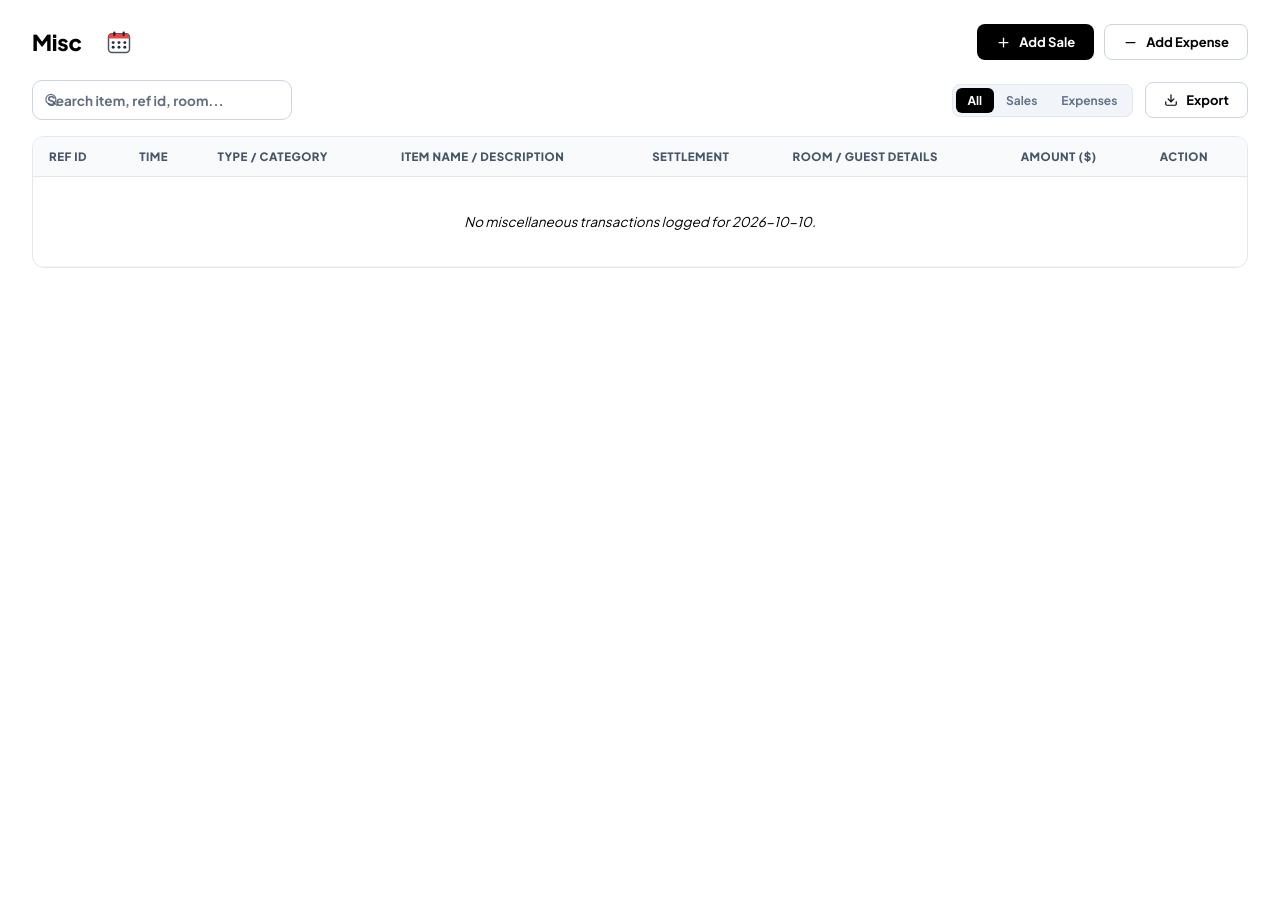
Misc Operations Test Suite › 2. Adds a new Misc Daily Sale using configured sequence ID (MSC-1001)
The image size is (1280, 900).
// Click Add Sale
Click the button "Add Sale" at (1036, 42), box [977,24,1094,60]
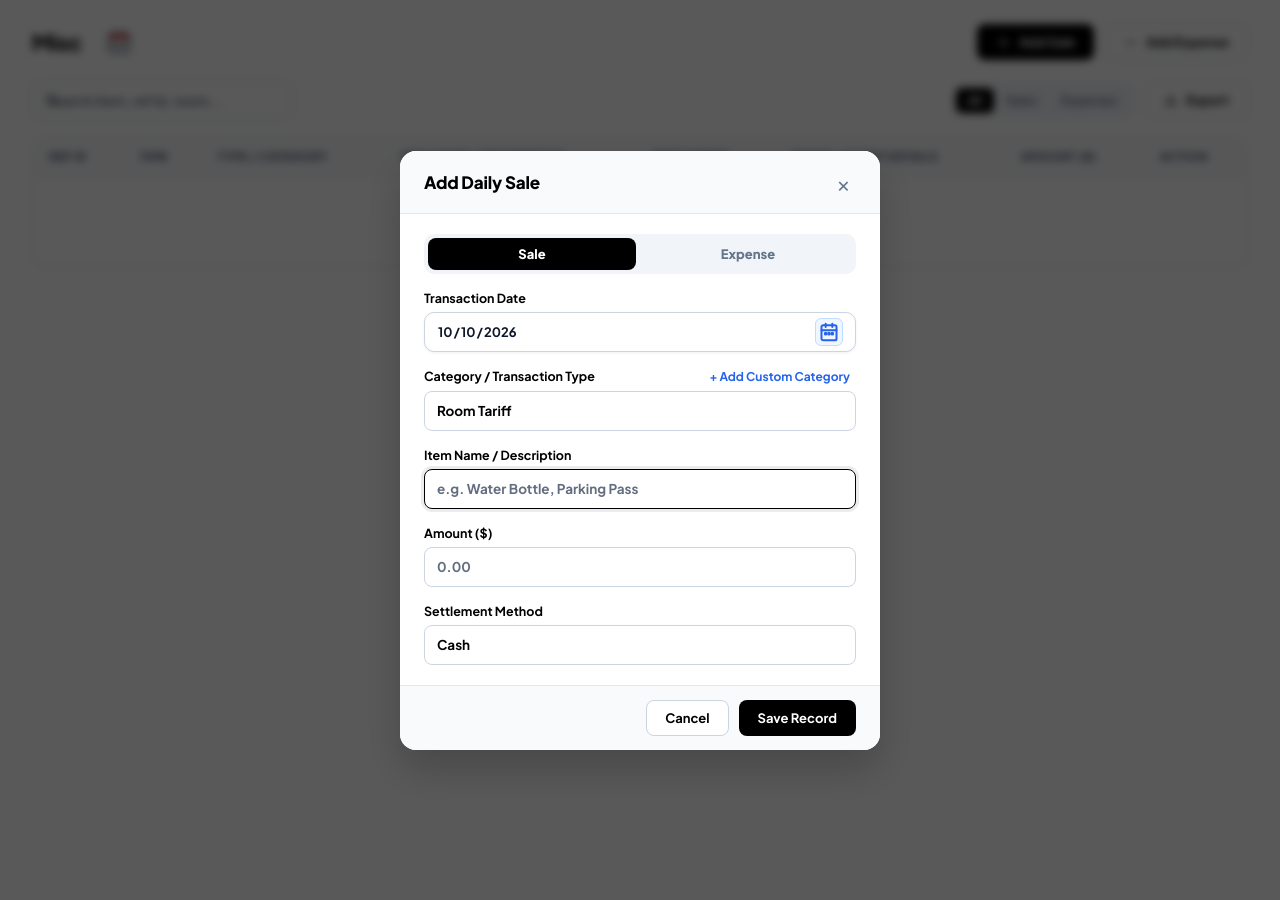
// Item Name
Type "Express Parking Pass" into the field with placeholder "e.g. Water Bottle, Parking Pass" at (640, 488), box [424,468,856,508]
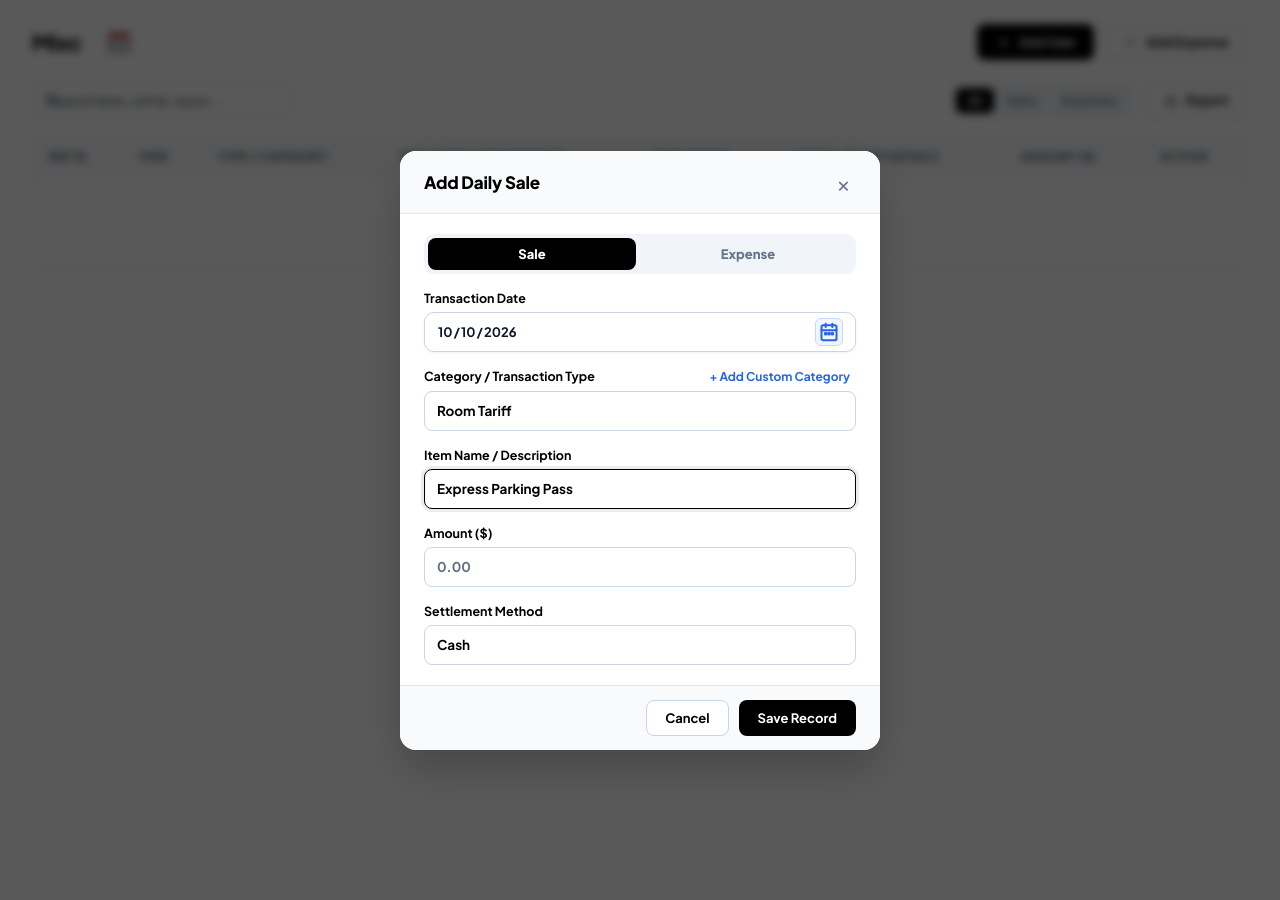
Type "20.00" into the number field with placeholder "0.00" at (640, 566), box [424,546,856,586]
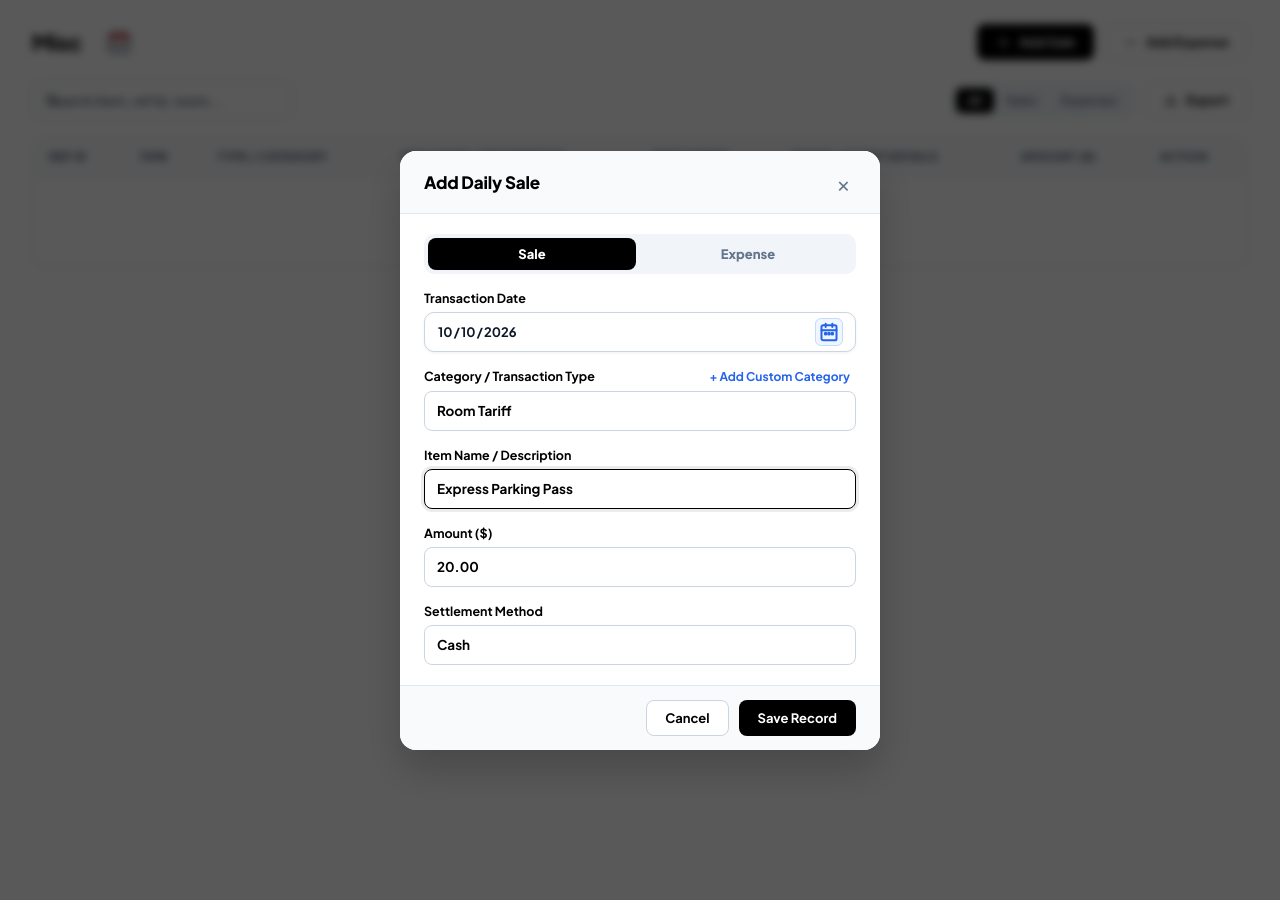
// Settle & Save
Click the button "Save Record" at (797, 718), box [739,700,856,736]
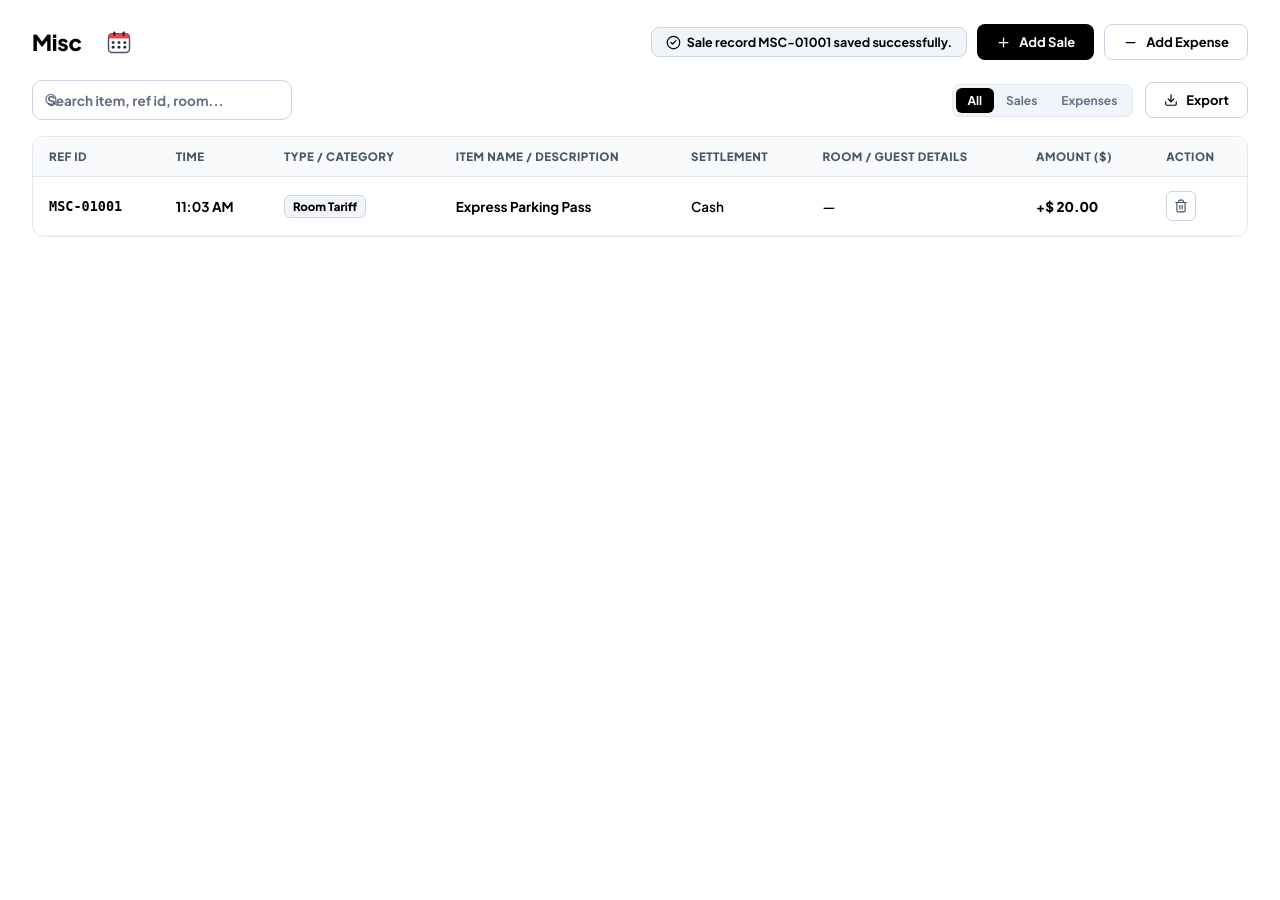
Check: the text "Express Parking Pass" is shown, box [456,198,592,214]
Check: the text "MSC-01001" is shown, box [33,176,160,236]
